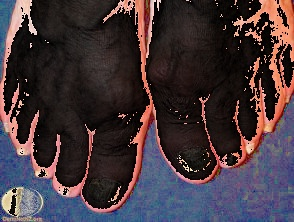Nail_psoriasis: (165, 131, 225, 190), (80, 169, 129, 217), (222, 153, 240, 167), (56, 187, 73, 197), (245, 140, 257, 153), (34, 169, 48, 178), (265, 121, 275, 132), (16, 148, 24, 155), (3, 123, 9, 131)
